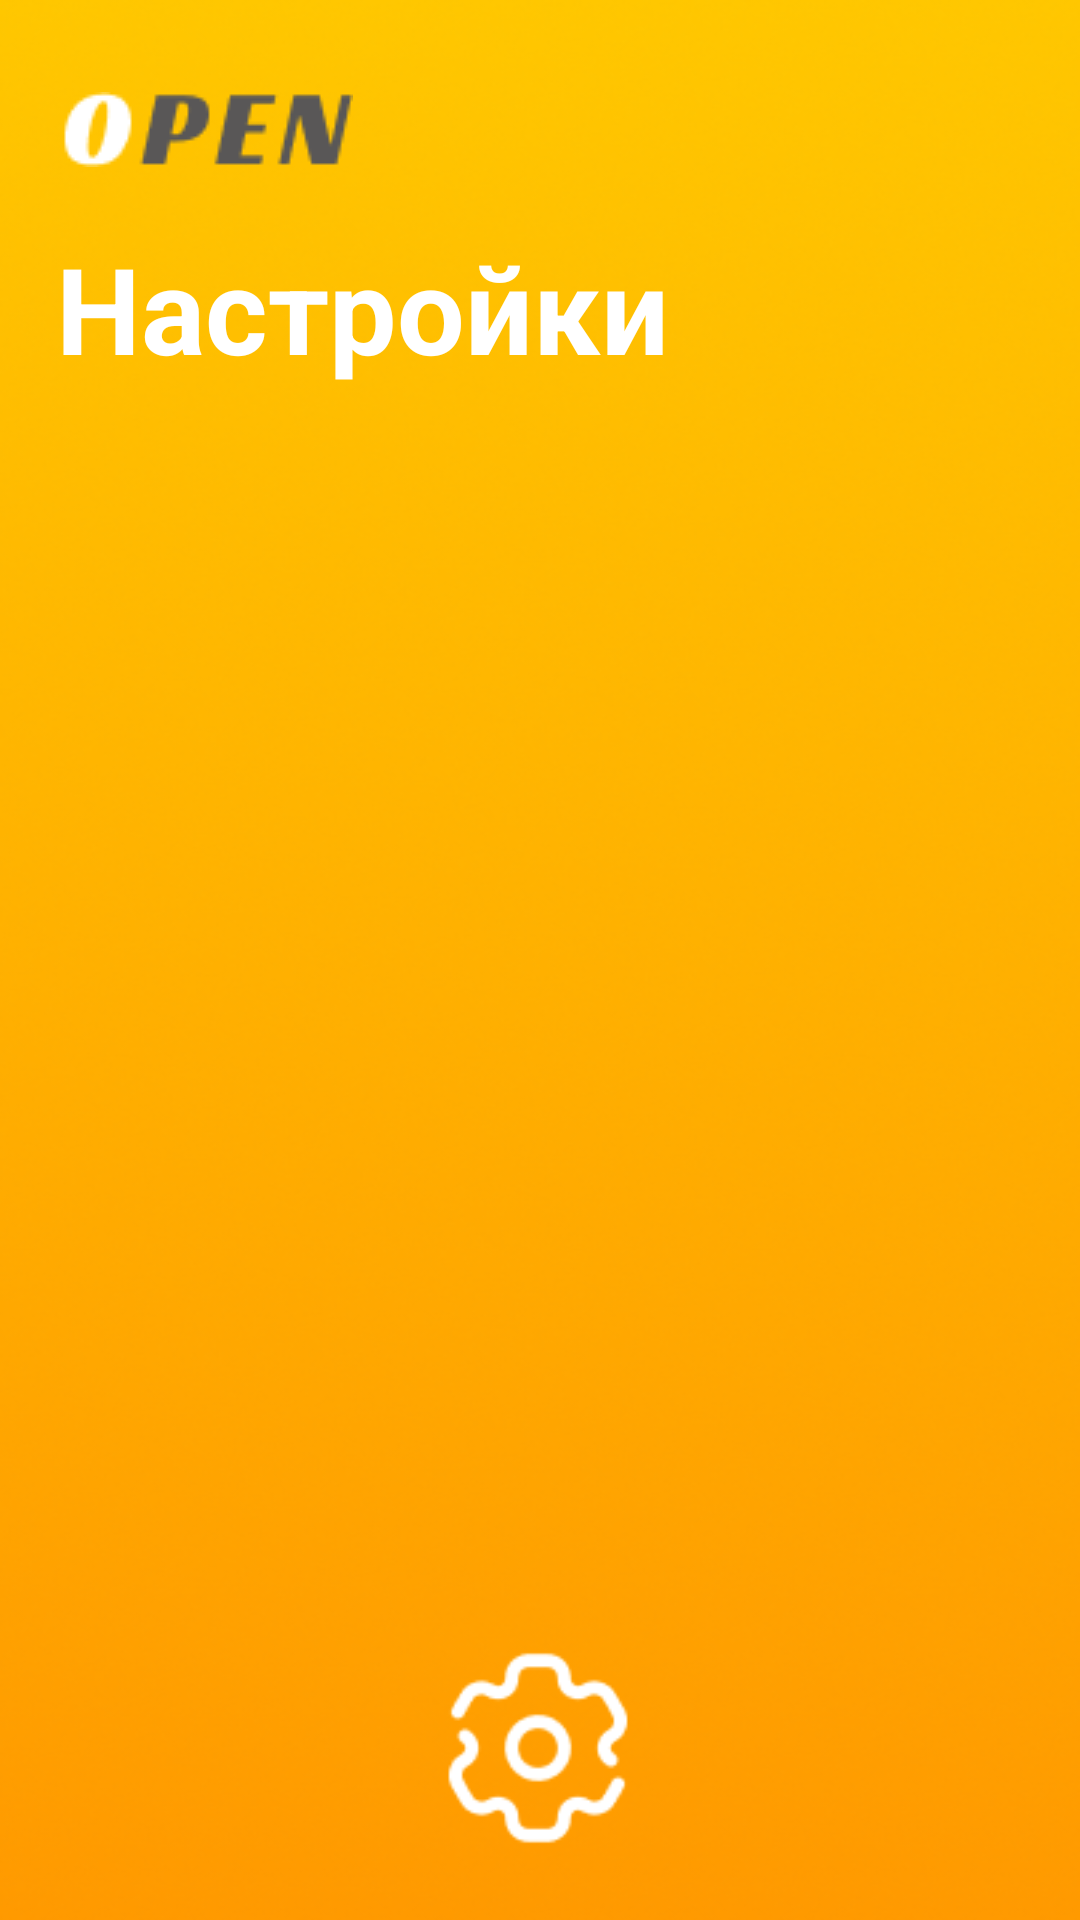

Screen size 1080x1920. Icon name, then its box in pixels as Rect(x1, y1, x2, y2):
settings: Rect(448, 1653, 628, 1843)
